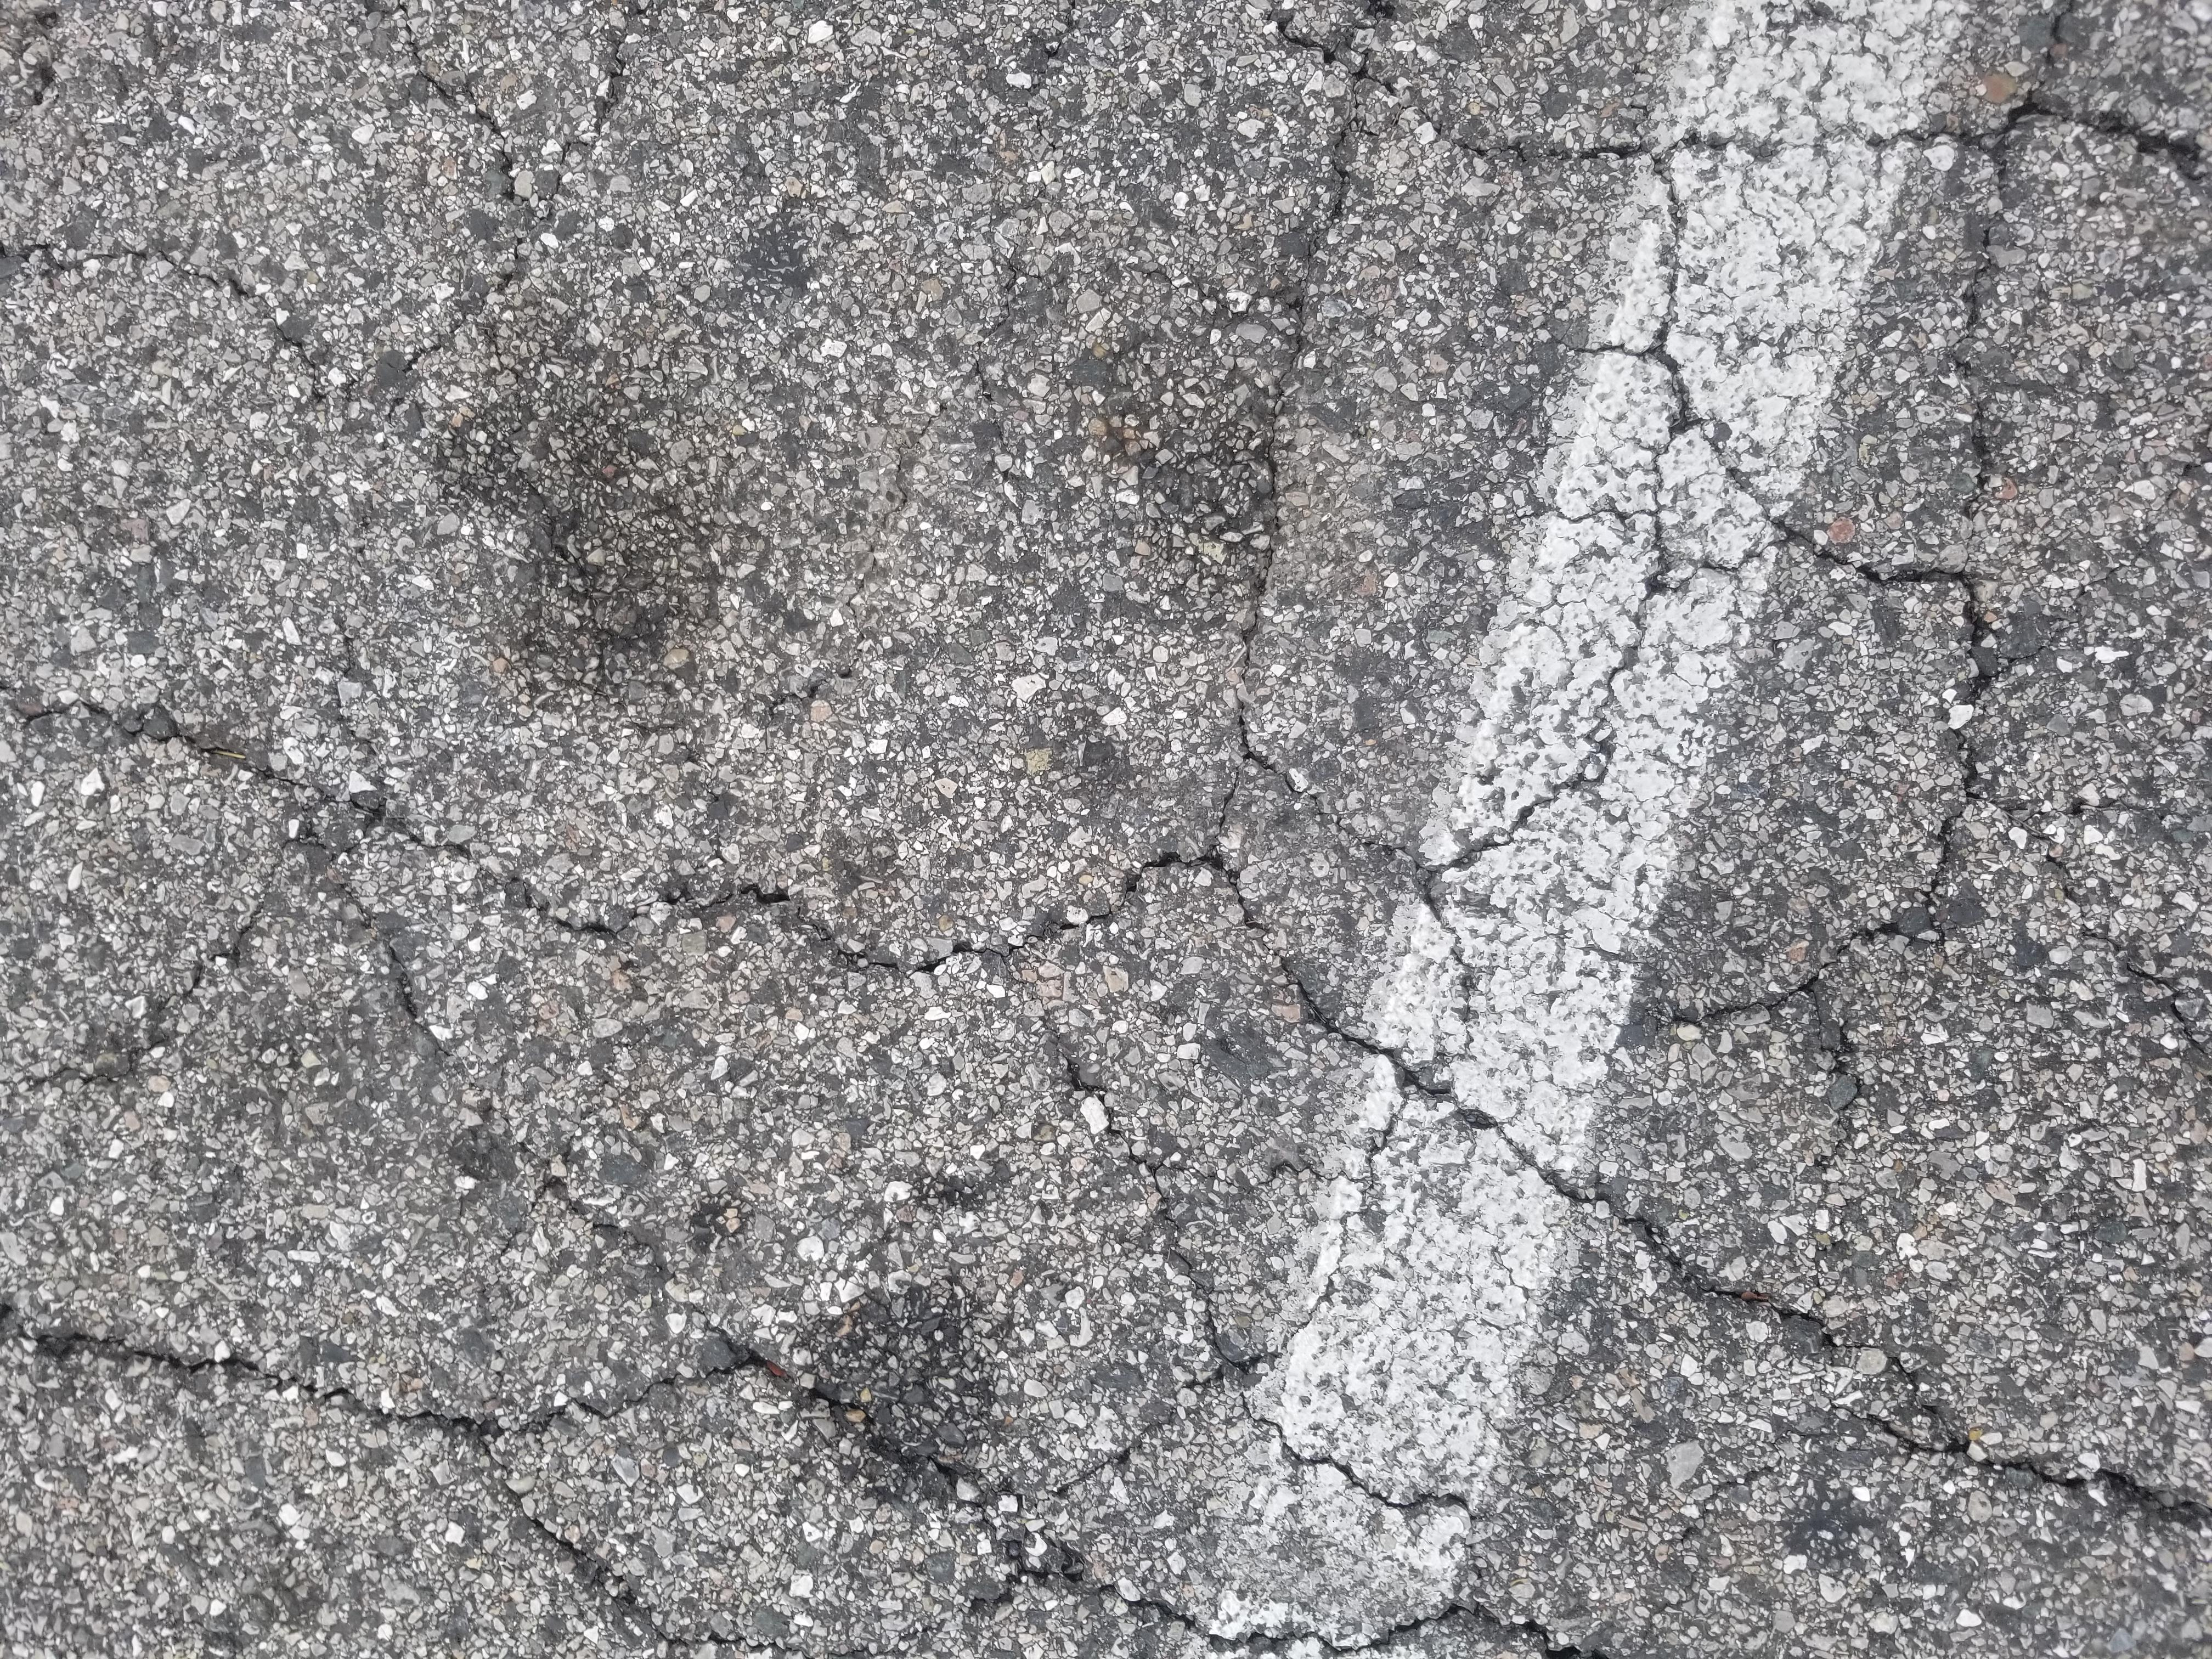alligator-crack: (80, 47, 2109, 1659)
